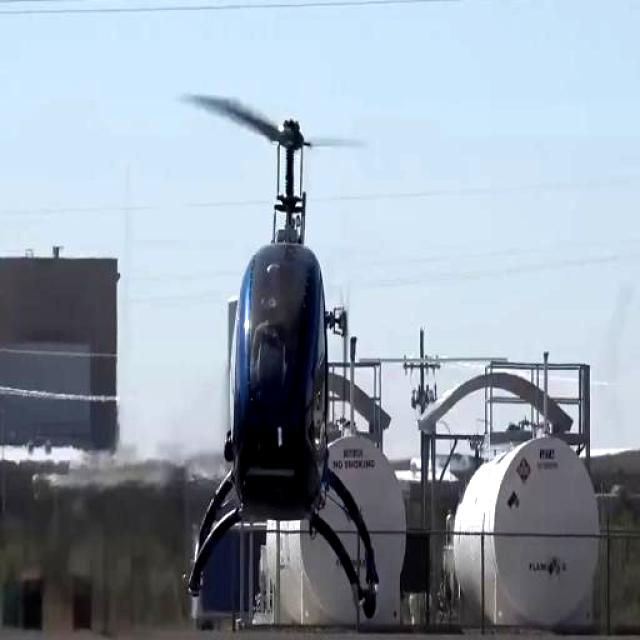drone: (176, 49, 394, 636)
